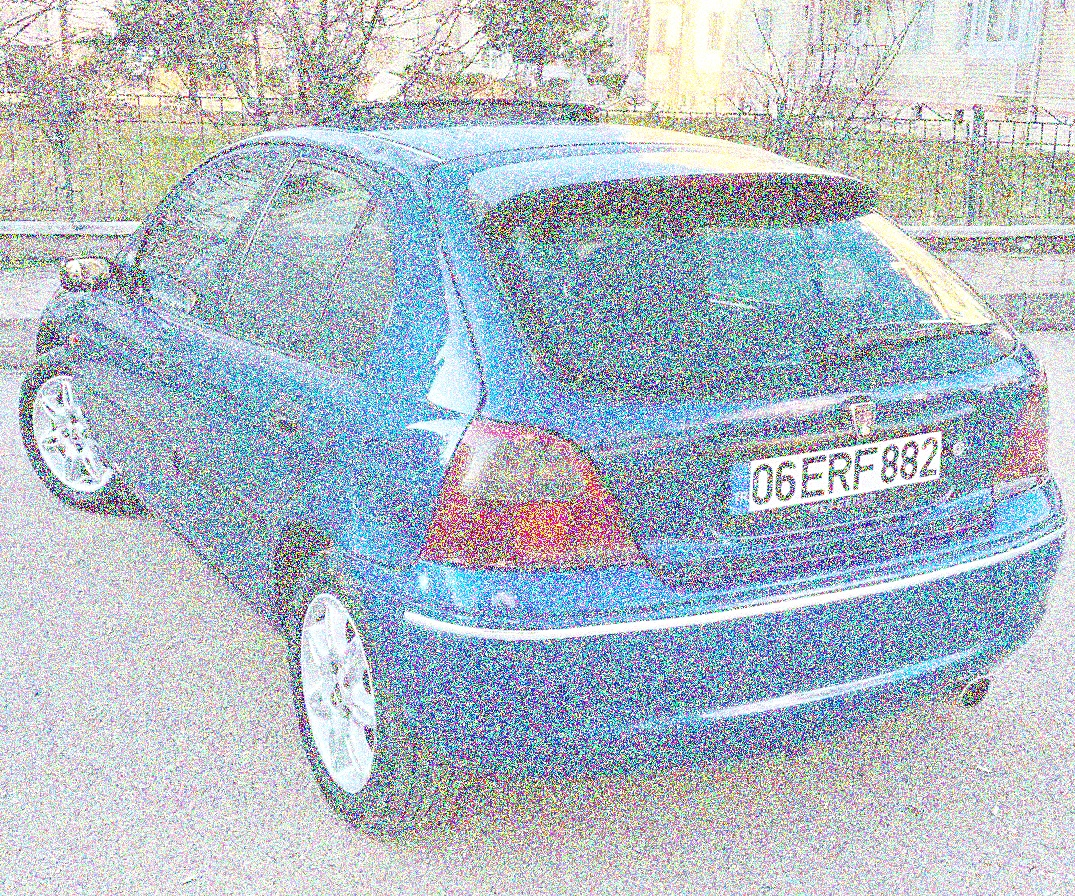plaka: (745, 437, 952, 508)
